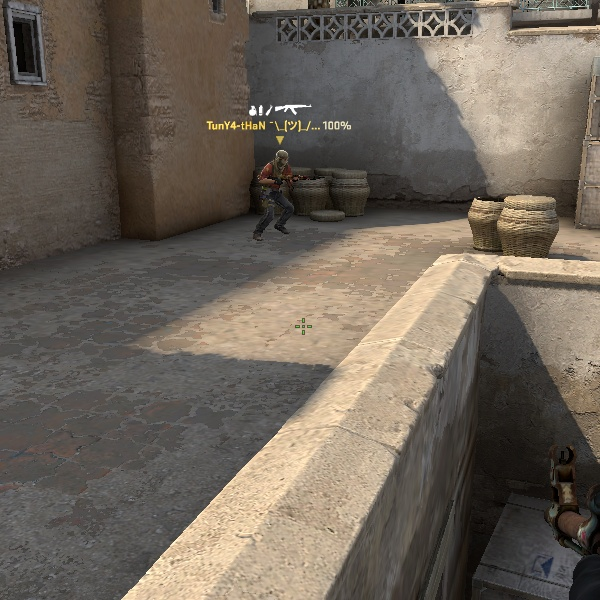t_body: (251, 144, 306, 237)
t_head: (269, 146, 294, 171)
